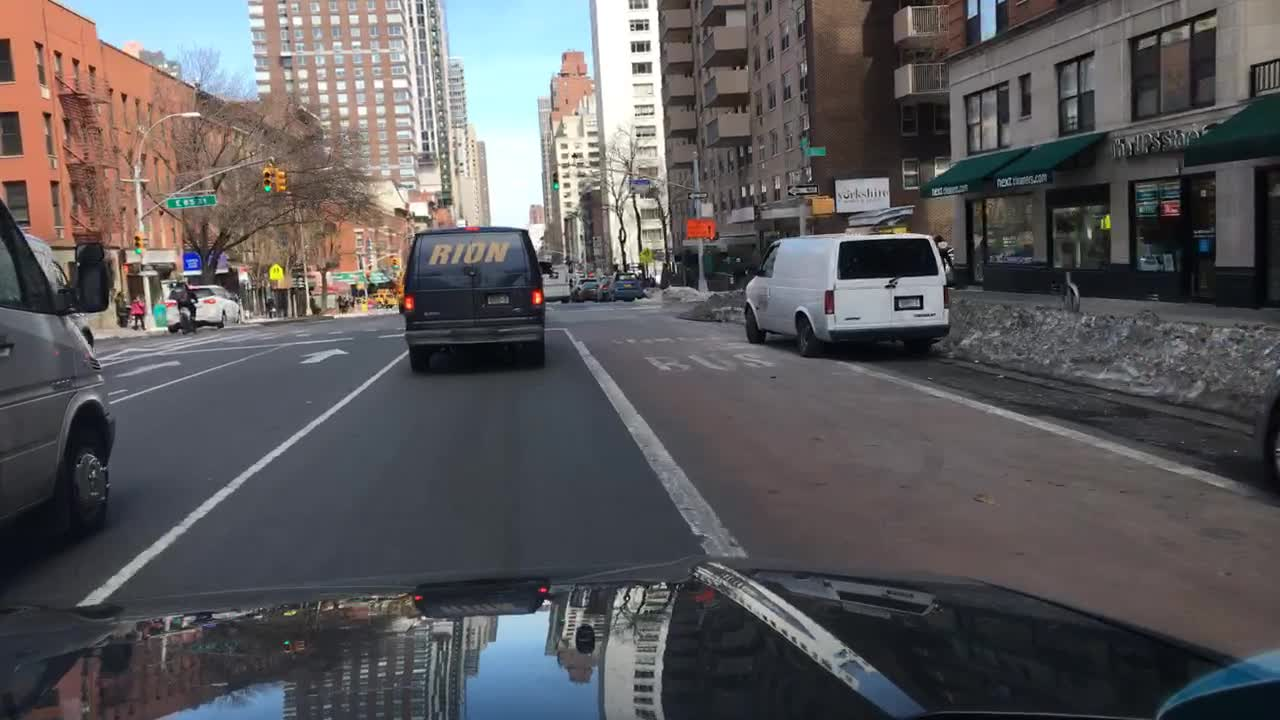car: (0, 196, 116, 556), (744, 231, 951, 363), (399, 228, 550, 371), (19, 229, 96, 355), (164, 283, 243, 330), (1254, 364, 1279, 491), (608, 272, 645, 304), (541, 264, 571, 303), (368, 291, 393, 310), (579, 277, 597, 302), (598, 278, 609, 301), (572, 274, 583, 292)
motor: (171, 305, 195, 331)
person: (936, 235, 958, 279), (729, 255, 746, 286), (127, 296, 144, 326), (114, 290, 126, 328), (659, 261, 670, 293), (332, 292, 349, 311), (266, 296, 276, 315)
rider: (170, 278, 196, 320)
traffic light: (809, 195, 835, 218), (260, 165, 273, 193), (130, 231, 143, 258), (276, 169, 288, 194), (548, 168, 559, 191), (120, 265, 136, 274), (391, 255, 399, 272)
traffic sign: (163, 193, 215, 209), (685, 218, 717, 240), (181, 249, 202, 275), (628, 179, 651, 194), (265, 262, 281, 282), (784, 186, 818, 194), (642, 246, 654, 263), (793, 136, 809, 148), (805, 147, 825, 156), (687, 191, 707, 199), (681, 240, 701, 247)
